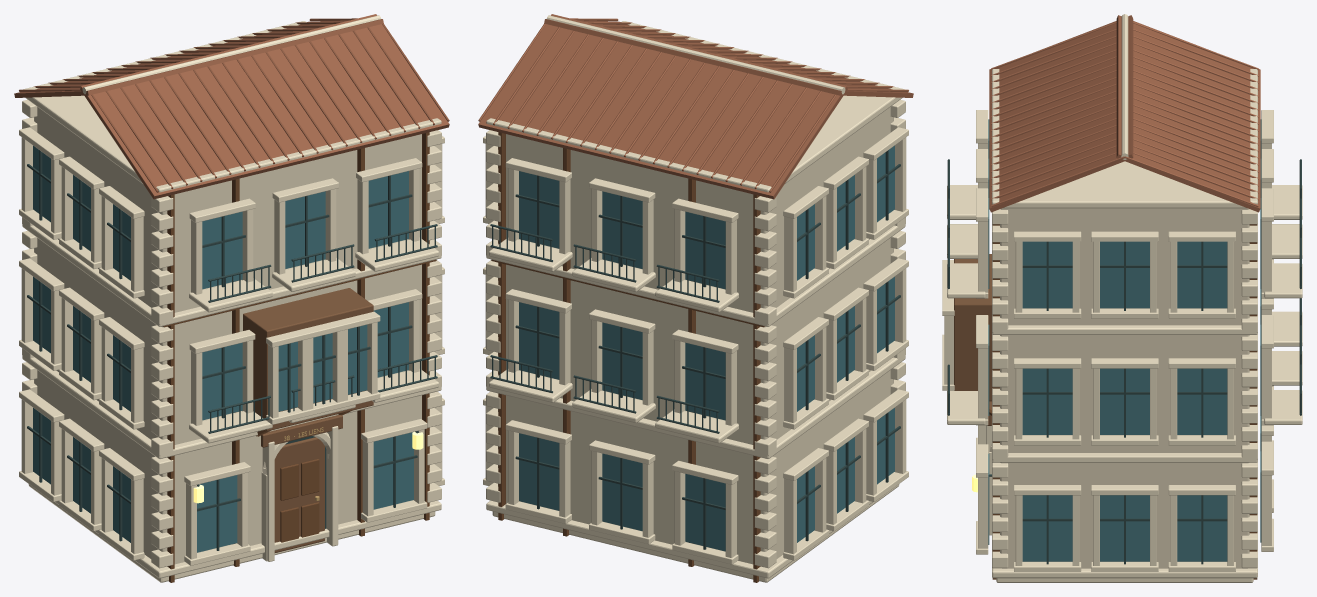
The model's file is turquie-3.glb.
The picture shows the model from 3 angles, left to right: view 1: azimuth 30°, elevation 25°; view 2: azimuth 150°, elevation 25°; view 3: azimuth 270°, elevation 25°; orthographic projection. The views are drawn at different scales.
Visible parts, largest first — view 1: turquie-3_Dressed stone.002, turquie-3_Regional roof.002, turquie-3_Masonry plaster.002, turquie-3_Window blue, turquie-3_Forged midnight, turquie-3_Regional painted wood.002, turquie-3_Walnut; view 2: turquie-3_Dressed stone.002, turquie-3_Masonry plaster.002, turquie-3_Regional roof.002, turquie-3_Window blue, turquie-3_Forged midnight, turquie-3_Walnut; view 3: turquie-3_Dressed stone.002, turquie-3_Regional roof.002, turquie-3_Masonry plaster.002, turquie-3_Window blue, turquie-3_Forged midnight, turquie-3_Regional painted wood.002, turquie-3_Walnut.
Part boxes in pixels (bbox=[...]): turquie-3_Dressed stone.002: bbox=[19, 15, 444, 582]; turquie-3_Regional roof.002: bbox=[14, 14, 449, 199]; turquie-3_Masonry plaster.002: bbox=[34, 107, 429, 564]; turquie-3_Window blue: bbox=[33, 145, 413, 552]; turquie-3_Forged midnight: bbox=[27, 150, 437, 550]; turquie-3_Regional painted wood.002: bbox=[243, 288, 373, 552]; turquie-3_Walnut: bbox=[163, 132, 436, 582]; turquie-3_Dressed stone.002: bbox=[483, 15, 908, 582]; turquie-3_Masonry plaster.002: bbox=[498, 107, 893, 564]; turquie-3_Regional roof.002: bbox=[478, 14, 913, 199]; turquie-3_Window blue: bbox=[519, 145, 894, 551]; turquie-3_Forged midnight: bbox=[490, 150, 900, 549]; turquie-3_Walnut: bbox=[491, 132, 764, 582]; turquie-3_Dressed stone.002: bbox=[942, 14, 1302, 582]; turquie-3_Regional roof.002: bbox=[989, 15, 1260, 212]; turquie-3_Masonry plaster.002: bbox=[1000, 208, 1249, 568]; turquie-3_Window blue: bbox=[988, 119, 1261, 561]; turquie-3_Forged midnight: bbox=[947, 159, 1301, 564]; turquie-3_Regional painted wood.002: bbox=[954, 254, 992, 425]; turquie-3_Walnut: bbox=[989, 224, 1257, 579].
Bounding box in the file's own units: 13.94 × 19.23 × 14.45.
